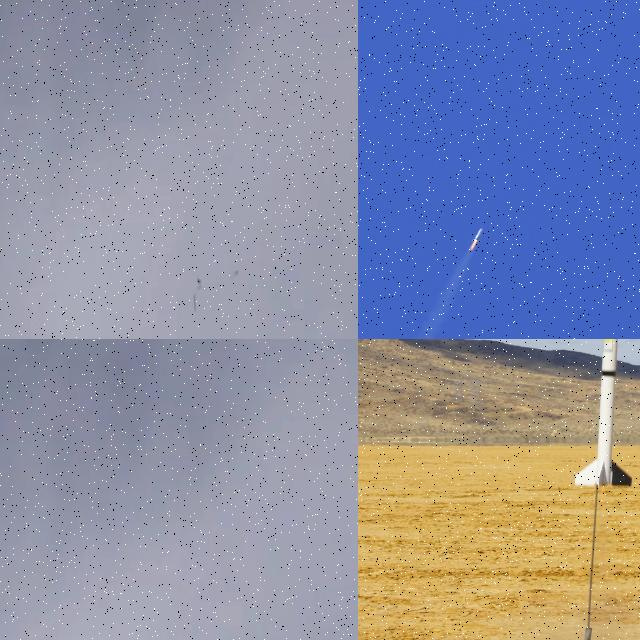Rocket: (574, 339, 634, 488), (471, 228, 483, 242), (194, 292, 196, 313)
